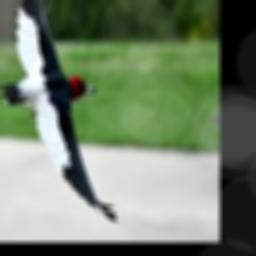Woodpecker: (0, 0, 117, 222)
